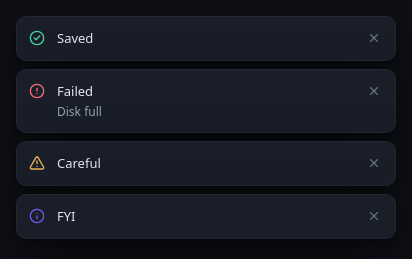
Scenario: Toasts › renders toasts with roles and dismisses them
This screenshot has width=412, height=259.
Expected: the message "Failed Disk full" is shown, [16,69,396,133]
Click the button named "Dismiss notification" in the row of "Saved": [374, 38] box [365,29,383,47]
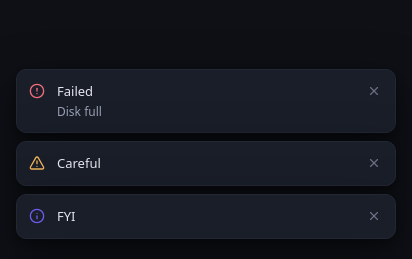
Expected: the text "Saved" is gone
